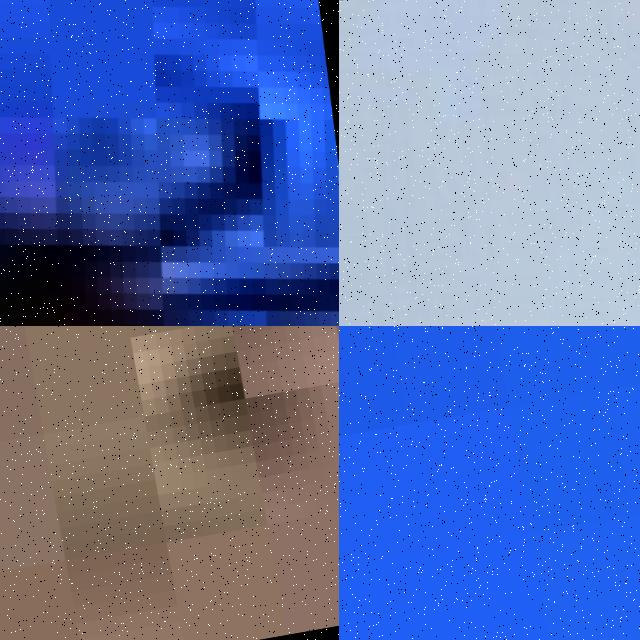drone: (0, 0, 339, 326), (339, 0, 640, 326)
